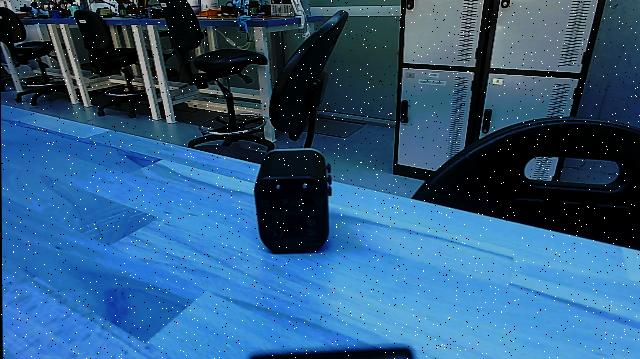adapter: (251, 142, 335, 254)
